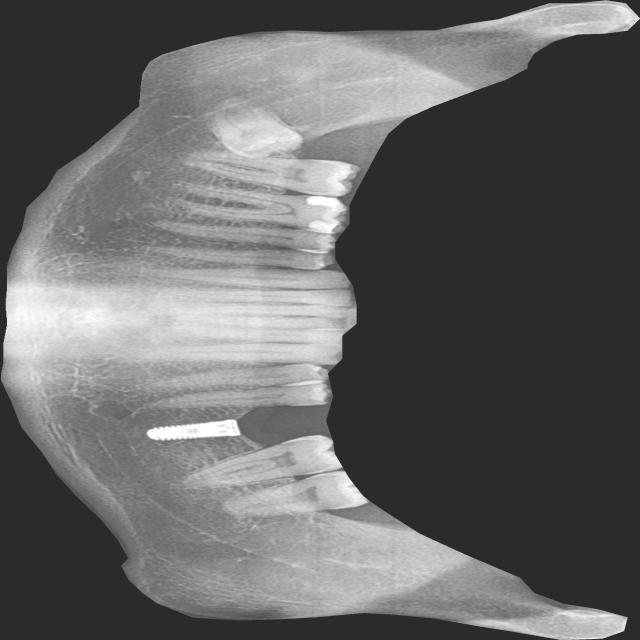mandibula: (0, 0, 639, 640)
